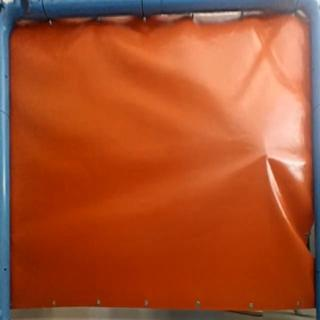Hit-hRxx: (259, 150, 275, 164)
